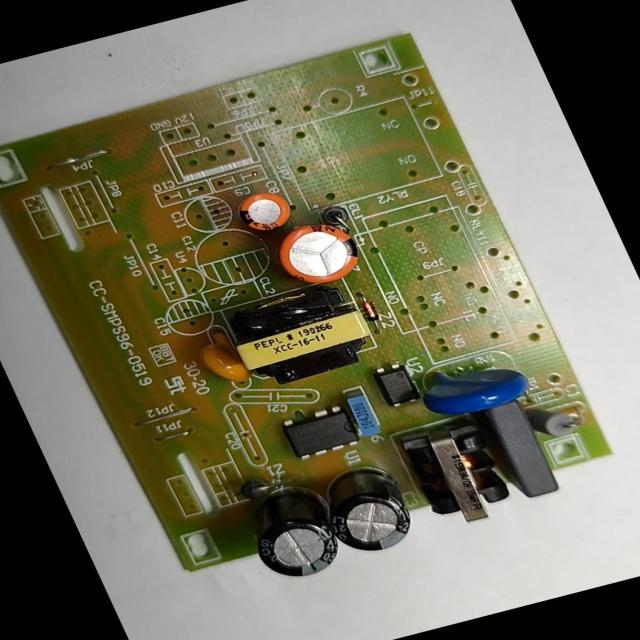Cap1: (266, 217, 372, 296)
Cap2: (232, 184, 303, 237)
Cap3: (309, 458, 425, 561)
Cap4: (235, 480, 352, 585)
MOSFET: (276, 401, 364, 464)
Mov: (412, 345, 540, 424)
Resistor: (524, 398, 584, 447)
Transformer: (217, 278, 389, 396), (399, 417, 525, 534)
